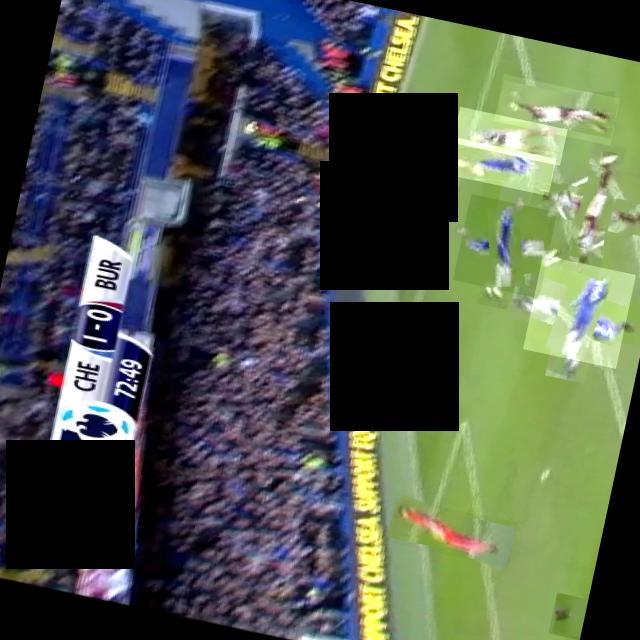ball: (386, 496, 518, 566)
soccer-player: (522, 254, 636, 368), (452, 193, 556, 297), (545, 157, 640, 259), (494, 72, 620, 144), (436, 133, 556, 194), (452, 106, 567, 164), (548, 591, 588, 639)
